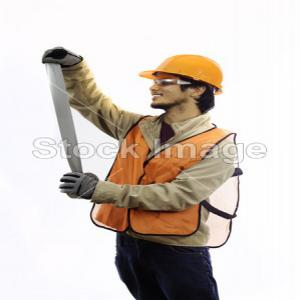yellow: (142, 56, 228, 114)
